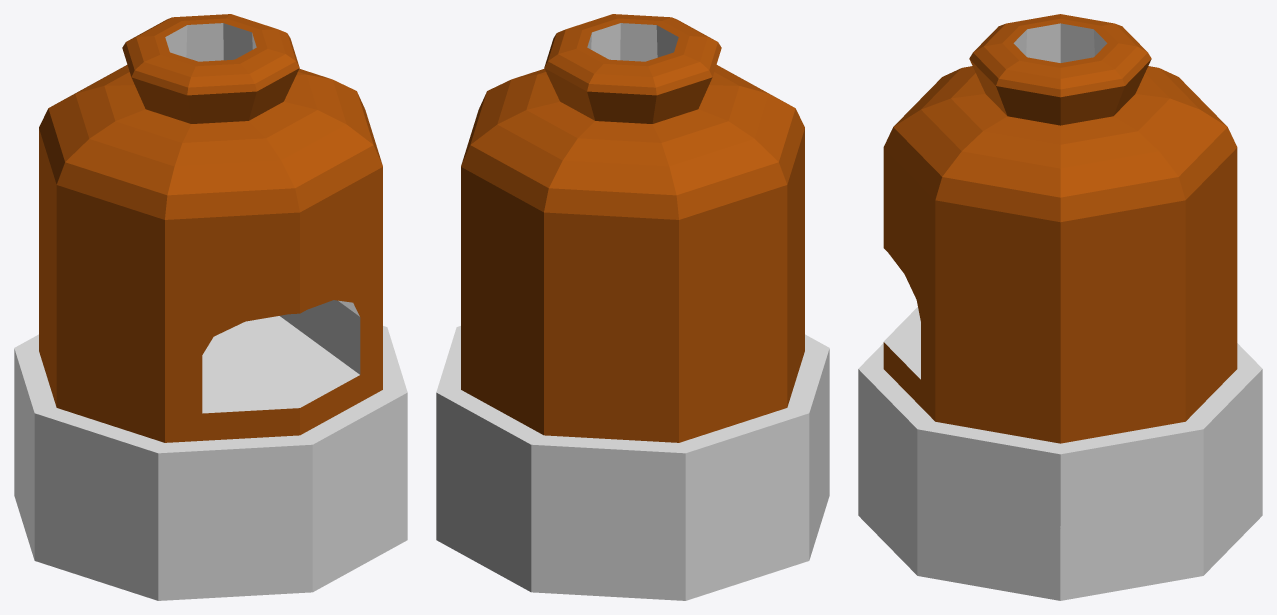
File: печка.fbx
The picture shows the model from 3 angles, left to right: view 1: azimuth 30°, elevation 25°; view 2: azimuth 150°, elevation 25°; view 3: azimuth 270°, elevation 25°; orthographic projection.
Parts seen in each view (by area): view 1: Cylinder; view 2: Cylinder; view 3: Cylinder.
Boxes of the visible parts, x1=… form: Cylinder: x1=14, y1=14, x2=407, y2=600; Cylinder: x1=436, y1=14, x2=829, y2=600; Cylinder: x1=858, y1=14, x2=1262, y2=600.
Size of the model in its own units: 200 by 258 by 200.
